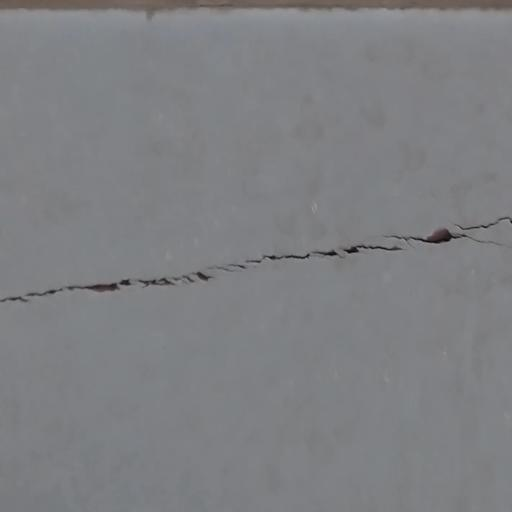major_crack: (0, 205, 512, 323)
